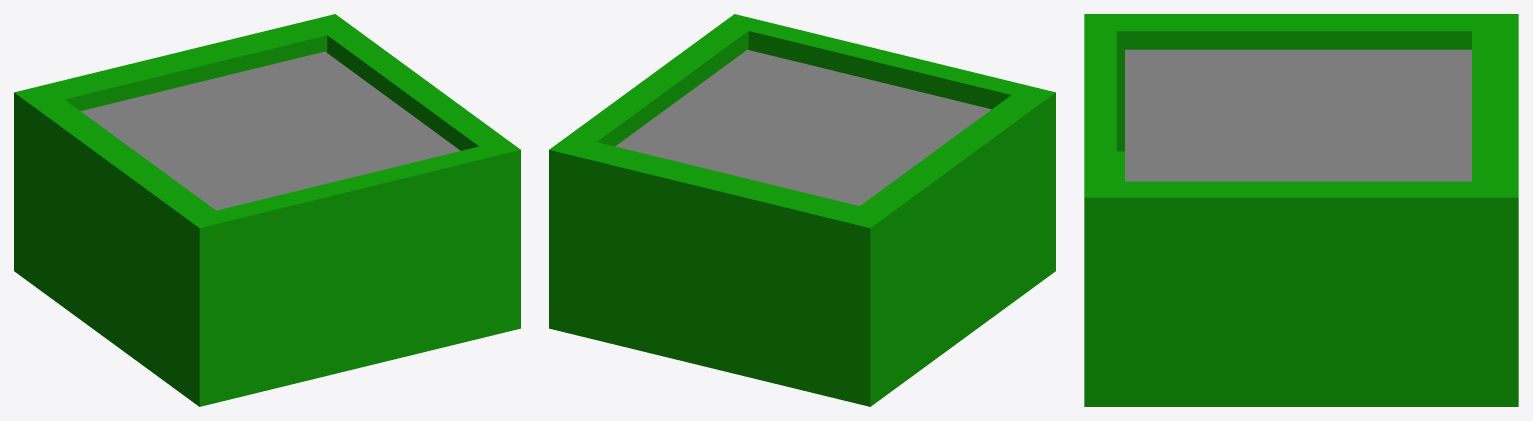
Rendered from Hole.fbx.
3 views of the same model, side by side, from view 1: azimuth 30°, elevation 25°; view 2: azimuth 150°, elevation 25°; view 3: azimuth 270°, elevation 25° (orthographic). The views are drawn at different scales.
Visible parts, largest first — view 1: Cube, Куб; view 2: Cube, Куб; view 3: Cube, Куб.
Part boxes in pixels (<box>): Cube: <box>14,14,520,406</box>; Куб: <box>81,51,460,210</box>; Cube: <box>549,14,1055,406</box>; Куб: <box>615,49,991,205</box>; Cube: <box>1084,14,1518,406</box>; Куб: <box>1125,49,1471,181</box>.
Size of the model in its own units: 200 by 106 by 200.
